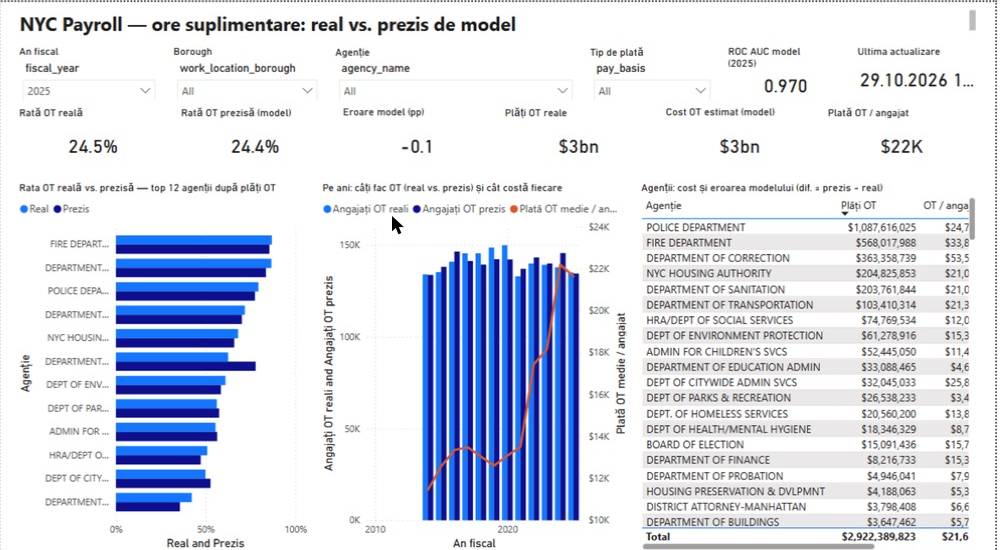

Layout of this report page (visuals, bound fields, positions):
{"tool":"powerbi","page":{"name":"Dashboard OT","canvas":[1280,720],"ordinal":0},"visuals":[{"type":"textbox","box":[20,6,1240,46],"z":1000},{"type":"slicer","title":"An fiscal","fields":{"Values":["gold_dashboard_agency_year.fiscal_year"]},"box":[20,56,190,70],"z":2000},{"type":"slicer","title":"Borough","fields":{"Values":["gold_dashboard_agency_year.work_location_borough"]},"box":[218,56,200,70],"z":2000},{"type":"slicer","title":"Agenție","fields":{"Values":["gold_dashboard_agency_year.agency_name"]},"box":[426,56,320,70],"z":2000},{"type":"slicer","title":"Tip de plată","fields":{"Values":["gold_dashboard_agency_year.pay_basis"]},"box":[754,56,170,70],"z":2000},{"type":"card","title":"ROC AUC model (2025)","fields":{"Values":["model_metrics.ROC AUC (test 2025)"]},"box":[932,56,158,70],"z":3000},{"type":"card","title":"Ultima actualizare","fields":{"Values":["gold_dashboard_agency_year.Ultima actualizare"]},"box":[1098,56,162,70],"z":3000},{"type":"card","title":"Rată OT reală","fields":{"Values":["gold_dashboard_agency_year.Rată OT reală"]},"box":[20,134,200,86],"z":3000},{"type":"card","title":"Rată OT prezisă (model)","fields":{"Values":["gold_dashboard_agency_year.Rată OT prezisă"]},"box":[228,134,200,86],"z":3000},{"type":"card","title":"Eroare model (pp)","fields":{"Values":["gold_dashboard_agency_year.Eroare predicție (pp)"]},"box":[436,134,200,86],"z":3000},{"type":"card","title":"Plăți OT reale","fields":{"Values":["gold_dashboard_agency_year.Plăți OT totale"]},"box":[644,134,200,86],"z":3000},{"type":"card","title":"Cost OT estimat (model)","fields":{"Values":["gold_dashboard_agency_year.Cost OT estimat (model)"]},"box":[852,134,200,86],"z":3000},{"type":"card","title":"Plată OT / angajat","fields":{"Values":["gold_dashboard_agency_year.Plată OT medie per angajat OT"]},"box":[1060,134,200,86],"z":3000},{"type":"clusteredBarChart","title":"Rata OT reală vs. prezisă — top 12 agenții după plăți OT","fields":{"Category":["gold_dashboard_agency_year.agency_name"],"Y":["gold_dashboard_agency_year.Rată OT reală","gold_dashboard_agency_year.Rată OT prezisă"]},"box":[20,230,380,480],"z":4000},{"type":"lineClusteredColumnComboChart","title":"Pe ani: câți fac OT (real vs. prezis) și cât costă fiecare","fields":{"Category":["gold_dashboard_agency_year.fiscal_year"],"Y":["gold_dashboard_agency_year.Angajați OT reali","gold_dashboard_agency_year.Angajați OT așteptați (model)"],"Y2":["gold_dashboard_agency_year.Plată OT medie per angajat OT"]},"box":[410,230,400,480],"z":5000},{"type":"tableEx","title":"Agenții: cost și eroarea modelului (dif. = prezis − real)","fields":{"Values":["gold_dashboard_agency_year.agency_name","gold_dashboard_agency_year.Plăți OT totale","gold_dashboard_agency_year.Plată OT medie per angajat OT","gold_dashboard_agency_year.Rată OT reală","gold_dashboard_agency_year.Rată OT prezisă","gold_dashboard_agency_year.Eroare predicție (pp)"]},"box":[820,230,440,480],"z":6000}]}

Visuals, with their boxes in screenshot pixels (x1, y1, x2, y2), scaled from the page's 1280x720 canvas onto the 1000x550 screenshot:
textbox: x1=16 y1=5 x2=984 y2=40
"An fiscal" slicer: x1=16 y1=43 x2=164 y2=96
"Borough" slicer: x1=170 y1=43 x2=327 y2=96
"Agenție" slicer: x1=333 y1=43 x2=583 y2=96
"Tip de plată" slicer: x1=589 y1=43 x2=722 y2=96
"ROC AUC model (2025)" card: x1=728 y1=43 x2=852 y2=96
"Ultima actualizare" card: x1=858 y1=43 x2=984 y2=96
"Rată OT reală" card: x1=16 y1=102 x2=172 y2=168
"Rată OT prezisă (model)" card: x1=178 y1=102 x2=334 y2=168
"Eroare model (pp)" card: x1=341 y1=102 x2=497 y2=168
"Plăți OT reale" card: x1=503 y1=102 x2=659 y2=168
"Cost OT estimat (model)" card: x1=666 y1=102 x2=822 y2=168
"Plată OT / angajat" card: x1=828 y1=102 x2=984 y2=168
"Rata OT reală vs. prezisă — top 12 agenții după plăți OT" clusteredBarChart: x1=16 y1=176 x2=312 y2=542
"Pe ani: câți fac OT (real vs. prezis) și cât costă fiecare" lineClusteredColumnComboChart: x1=320 y1=176 x2=633 y2=542
"Agenții: cost și eroarea modelului (dif. = prezis − real)" tableEx: x1=641 y1=176 x2=984 y2=542
